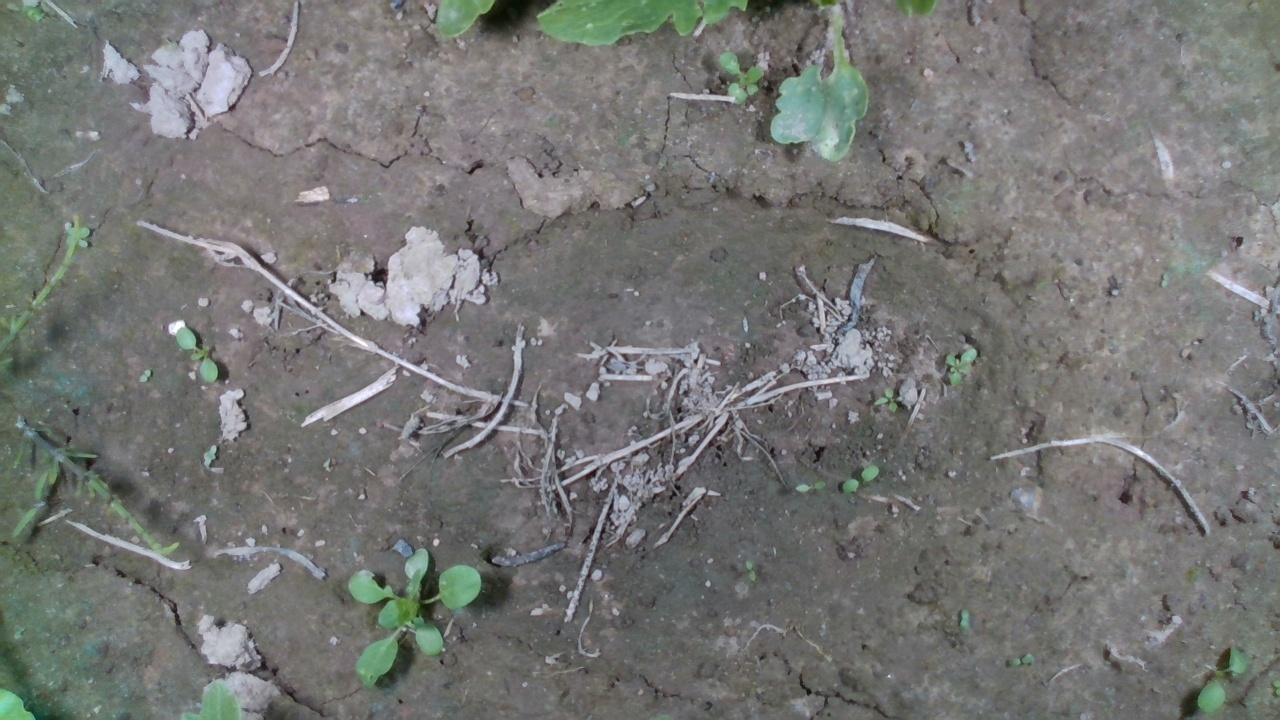weed: (1197, 643, 1246, 712), (174, 325, 220, 384), (717, 51, 765, 105), (842, 462, 882, 493), (943, 352, 973, 387), (872, 385, 903, 416), (791, 479, 827, 494), (743, 559, 757, 584), (138, 367, 152, 383)
